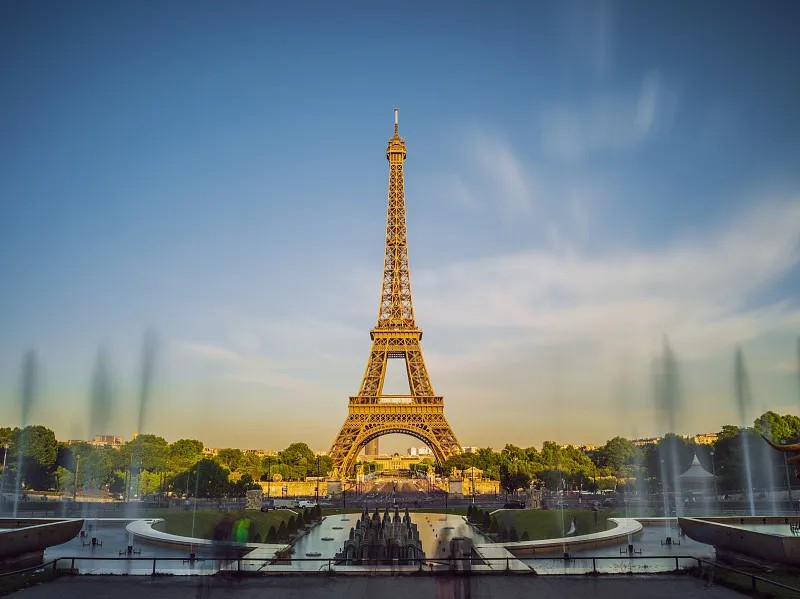Eiffel: (323, 109, 465, 481)
